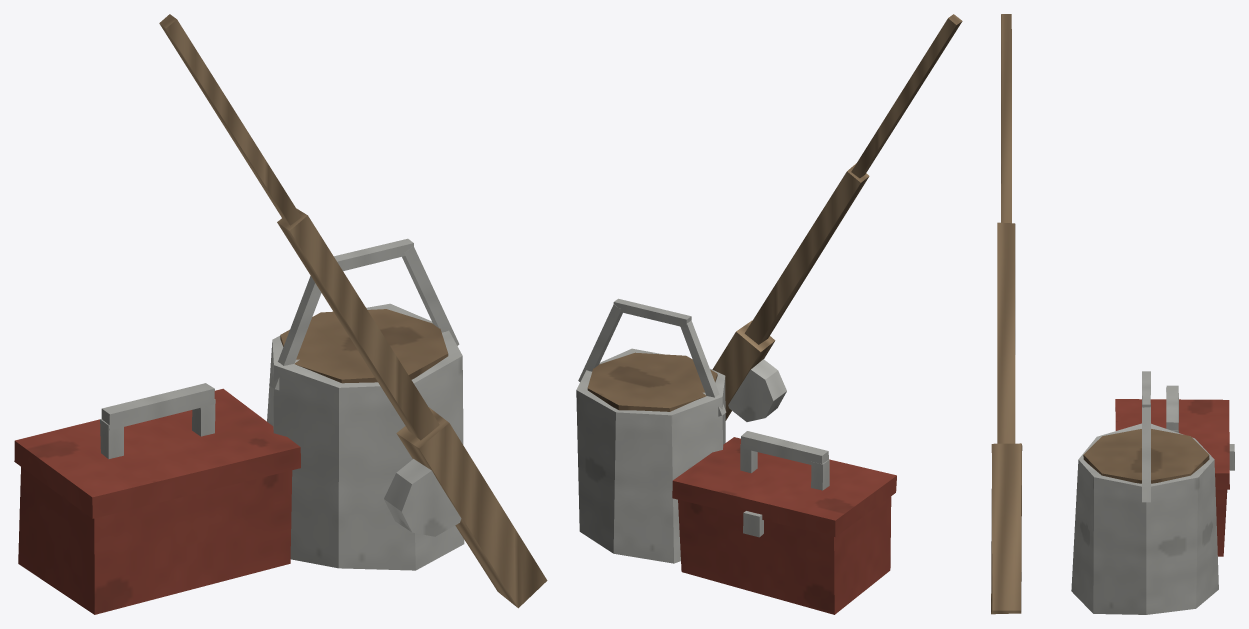
File: fishing_spot.glb
3 views of the same model, side by side, from view 1: azimuth 30°, elevation 25°; view 2: azimuth 150°, elevation 25°; view 3: azimuth 270°, elevation 25° (orthographic). The views are drawn at different scales.
Visible parts, largest first — view 1: FishingSpot; view 2: FishingSpot; view 3: FishingSpot.
Part boxes in pixels (x1=…): FishingSpot: x1=14, y1=14, x2=547, y2=614; FishingSpot: x1=576, y1=14, x2=962, y2=614; FishingSpot: x1=991, y1=14, x2=1234, y2=614.
Size of the model in its own units: 0.5239 by 0.8518 by 0.3906.
4 materials, 4 textured.
